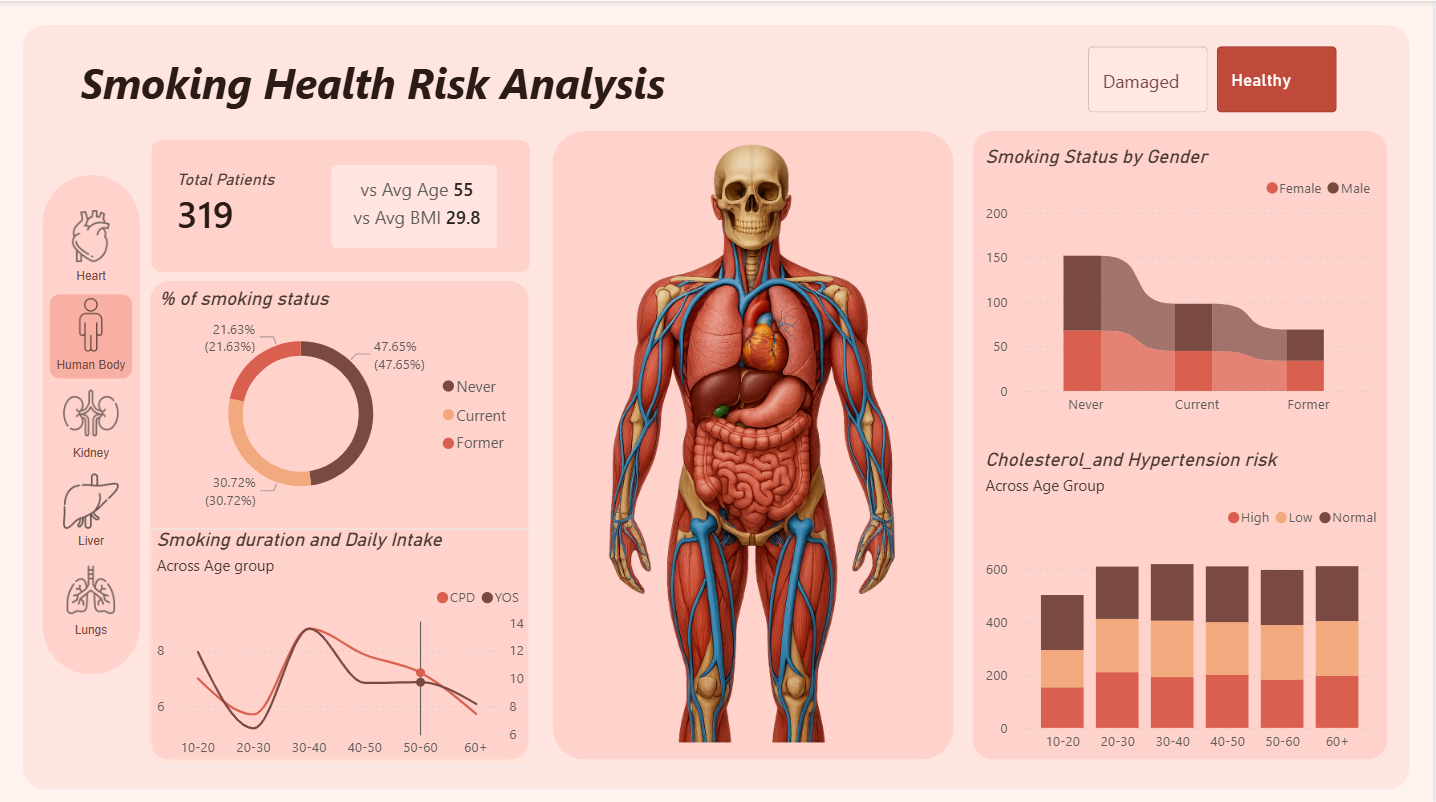

The dashboard page shown, as its layout file describes it:
{"tool":"powerbi","page":{"name":"Dashboard","canvas":[1280,720],"ordinal":0},"visuals":[{"type":"shape","box":[20.1,21.2,1239.5,683.4],"z":0},{"type":"shape","box":[493.6,116.1,358.4,561.7],"z":1000},{"type":"shape","box":[134,250.1,338.3,427.7],"z":2000},{"type":"shape","box":[868.7,116.1,370.7,561.7],"z":3000},{"type":"shape","box":[38,155.2,87.1,446.7],"z":4000},{"type":"shape","box":[135.1,123.9,338.3,118.4],"z":5000},{"type":"image","box":[493.6,123.9,358.4,539.3],"z":6000},{"type":"cardVisual","fields":{"Data":["CountNonNull(Health Dataset.Patient_ID)"]},"box":[135.1,123.9,338.3,118.4],"z":7000},{"type":"donutChart","title":"% of smoking status","fields":{"Category":["Health Dataset.Smoking_Status"],"Y":["CountNonNull(Health Dataset.Smoking_Status)"]},"box":[138.5,252.4,328.3,209.9],"z":8000},{"type":"textbox","box":[67,42.4,558.3,62.5],"z":9000},{"type":"lineChart","title":"Smoking duration and Daily Intake","fields":{"Y":["Avg(Health Dataset.Cigarettes_Per_Day)"],"Y2":["Avg(Health Dataset.Years_of_Smoking)"],"Category":["Health Dataset.Age Group"]},"box":[135.1,471.2,338.3,213.3],"z":10000},{"type":"ribbonChart","title":"Smoking Status by Gender","fields":{"Category":["Health Dataset.Smoking_Status"],"Y":["CountNonNull(Health Dataset.Patient_ID)"],"Series":["Health Dataset.Gender"]},"box":[875.4,128.4,358.4,250.1],"z":11000},{"type":"columnChart","title":"    Cholesterol_and Hypertension risk","fields":{"Category":["Health Dataset.Age Group"],"Y":["Avg(Health Dataset.Cholesterol_Level)"],"Series":["Health Dataset.BP_Risk"]},"box":[875.4,399.8,364,279.2],"z":12000},{"type":"advancedSlicerVisual","fields":{"Values":["Conditions.Organ_Condition"]},"box":[967,35.7,233.4,69.2],"z":13000},{"type":"textbox","box":[153,145.2,151.9,31.3],"z":14000},{"type":"ChicletSlicer1448559807354","fields":{"Category":["organs images.Organ"],"Image":["organs images.Icon_URL"]},"box":[38.4,176.7,87.2,411.6],"z":15000}]}

Visuals, with their boxes in screenshot pixels (x1, y1, x2, y2), scaled from the page's 1280x720 canvas onto the 1436x802 screenshot:
shape: 23 24 1413 785
shape: 554 129 956 755
shape: 150 279 530 755
shape: 975 129 1390 755
shape: 43 173 140 670
shape: 152 138 531 270
image: 554 138 956 739
cardVisual - CountNonNull(Health Dataset.Patient_ID): 152 138 531 270
"% of smoking status" donutChart: 155 281 524 515
textbox: 75 47 702 117
"Smoking duration and Daily Intake" lineChart: 152 525 531 762
"Smoking Status by Gender" ribbonChart: 982 143 1384 422
"    Cholesterol_and Hypertension risk" columnChart: 982 445 1390 756
advancedSlicerVisual - Conditions.Organ_Condition: 1085 40 1347 117
textbox: 172 162 342 197
ChicletSlicer1448559807354 - organs images.Organ x organs images.Icon_URL: 43 197 141 655
